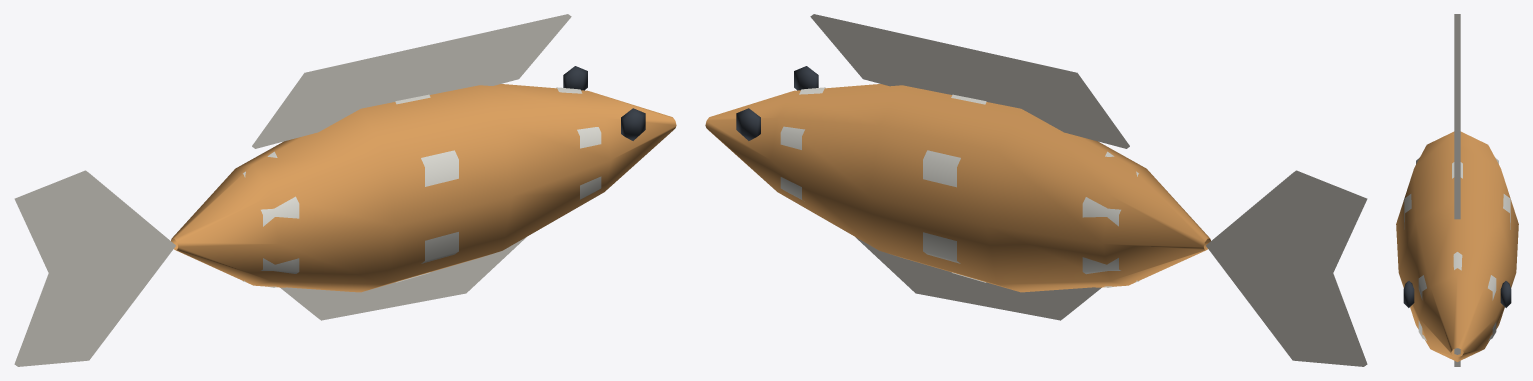
Rendered from clownfish.glb.
3 views of the same model, side by side, from view 1: azimuth 30°, elevation 25°; view 2: azimuth 150°, elevation 25°; view 3: azimuth 270°, elevation 25° (orthographic). The views are drawn at different scales.
Parts seen in each view (by area): view 1: clownfish; view 2: clownfish; view 3: clownfish.
Boxes of the visible parts, x1=… form: clownfish: x1=14, y1=14, x2=676, y2=366; clownfish: x1=705, y1=14, x2=1367, y2=366; clownfish: x1=1396, y1=14, x2=1518, y2=366.
Size of the model in its own units: 2.49 by 0.93 by 0.48.
